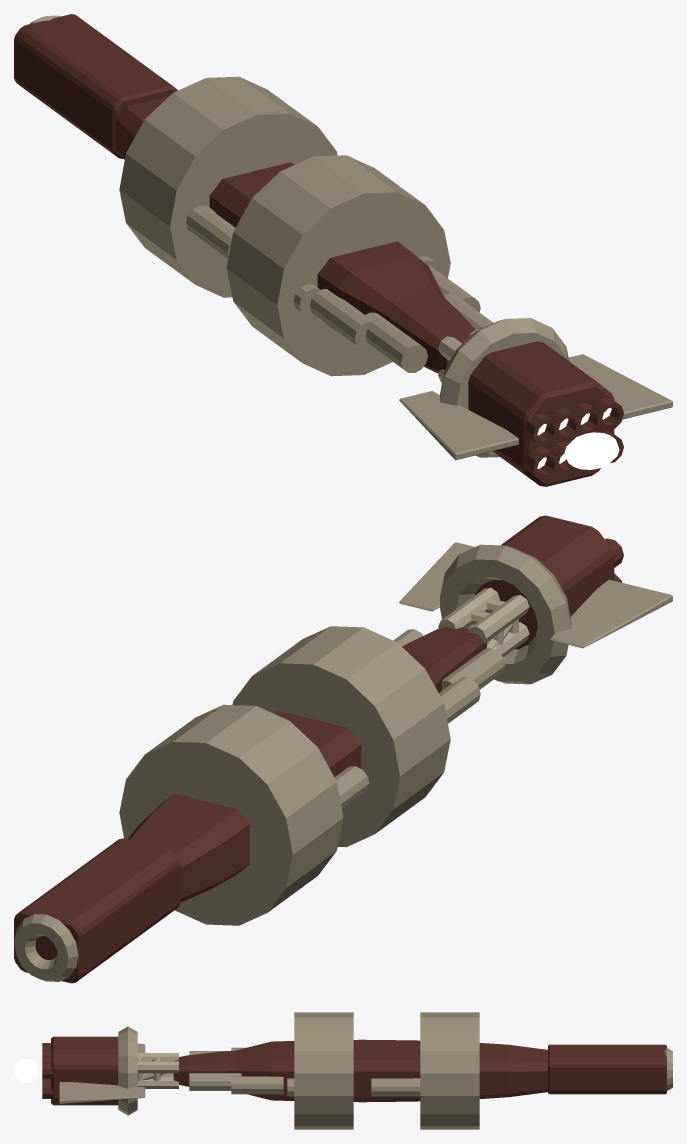
The picture shows the model from 3 angles, top to bottom: view 1: azimuth 30°, elevation 25°; view 2: azimuth 150°, elevation 25°; view 3: azimuth 270°, elevation 25°; orthographic projection. The views are drawn at different scales.
Parts seen in each view (by area): view 1: RIMWARD_HULL, RIMWARD_ENGINE_GLOW; view 2: RIMWARD_HULL; view 3: RIMWARD_HULL, RIMWARD_ENGINE_GLOW.
Part boxes in pixels (left/top/right/bottom): RIMWARD_HULL: left=14, top=14, right=672, bottom=486; RIMWARD_ENGINE_GLOW: left=564, top=432, right=619, bottom=469; RIMWARD_HULL: left=14, top=515, right=672, bottom=983; RIMWARD_HULL: left=42, top=1012, right=672, bottom=1129; RIMWARD_ENGINE_GLOW: left=14, top=1059, right=38, bottom=1082.
Size of the model in its own units: 18 by 14.28 by 80.04.
